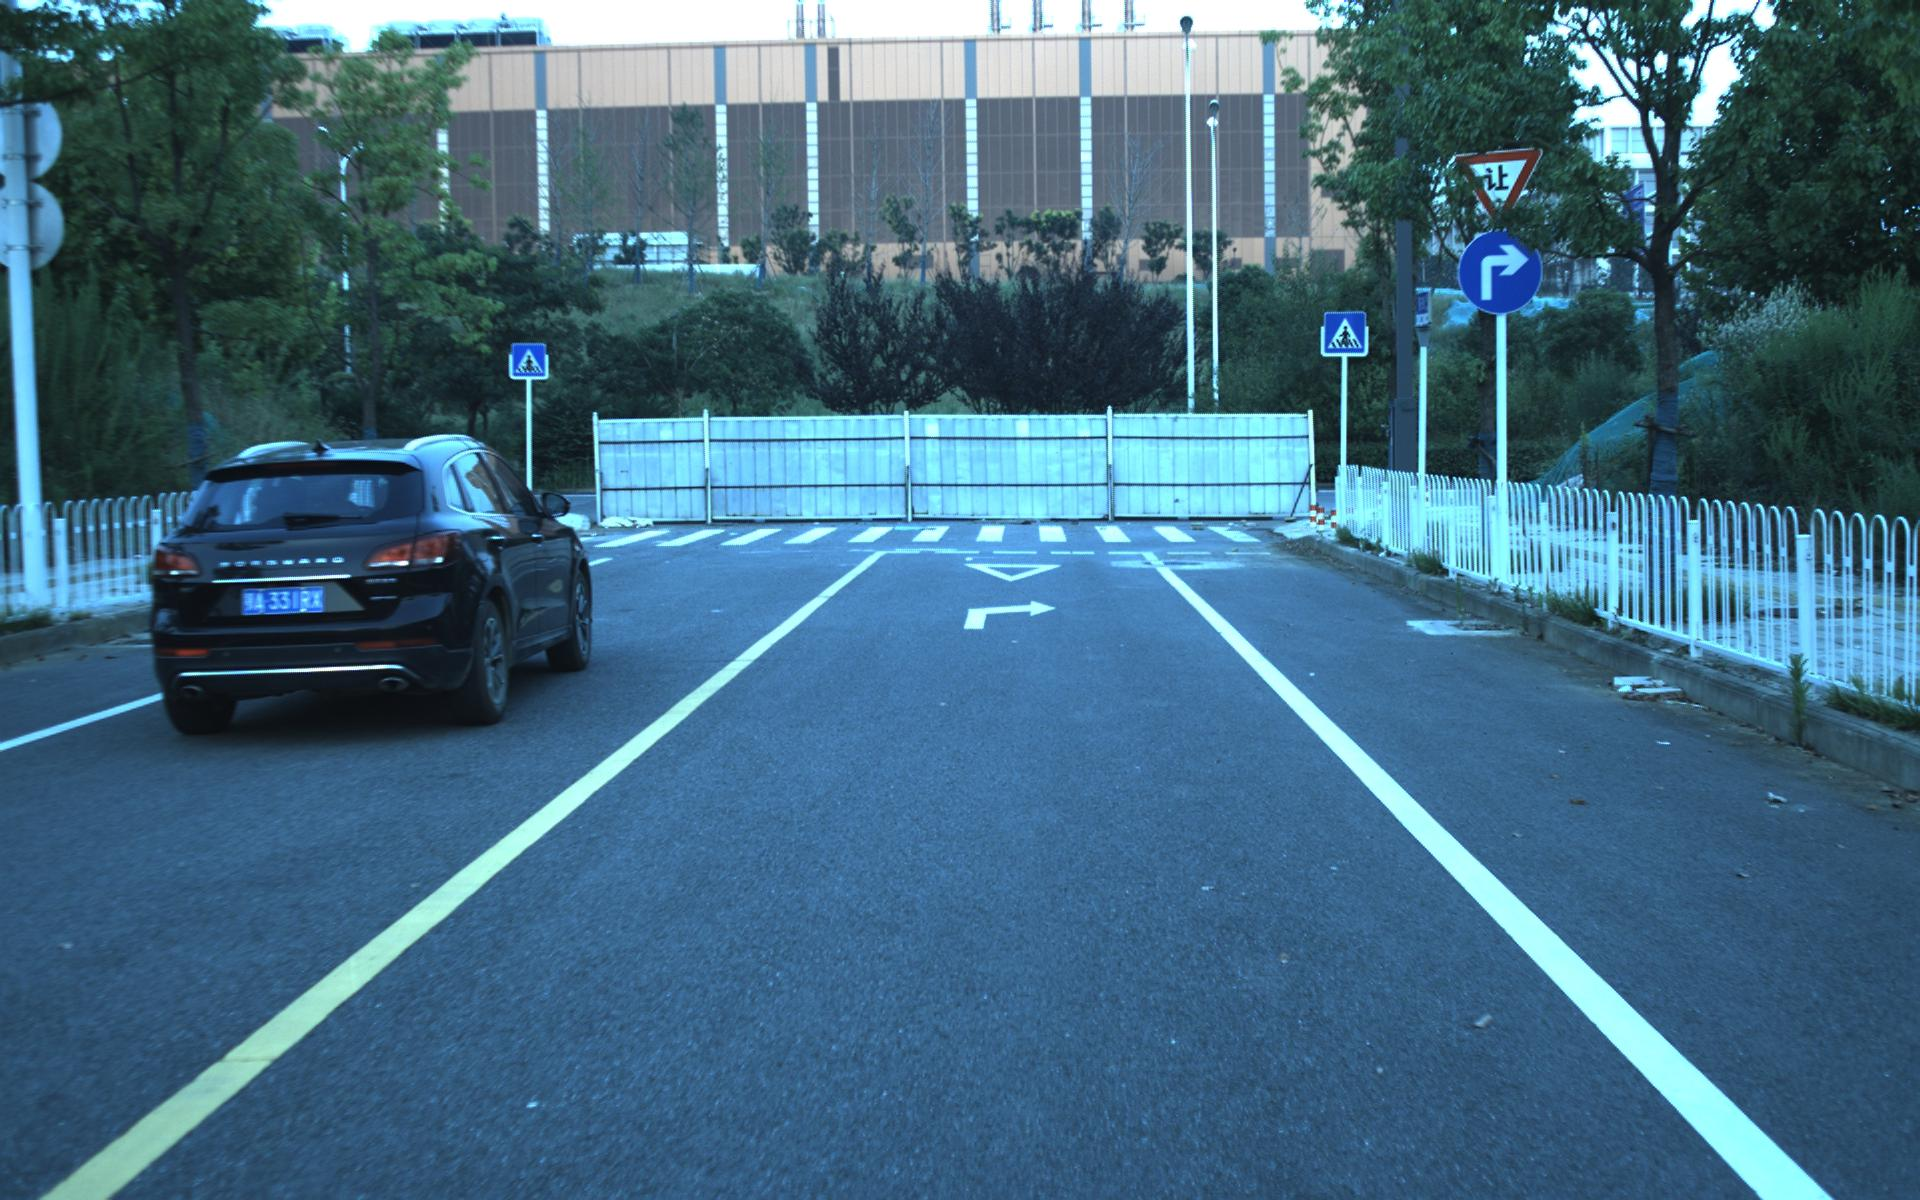Car: (130, 424, 604, 740)
